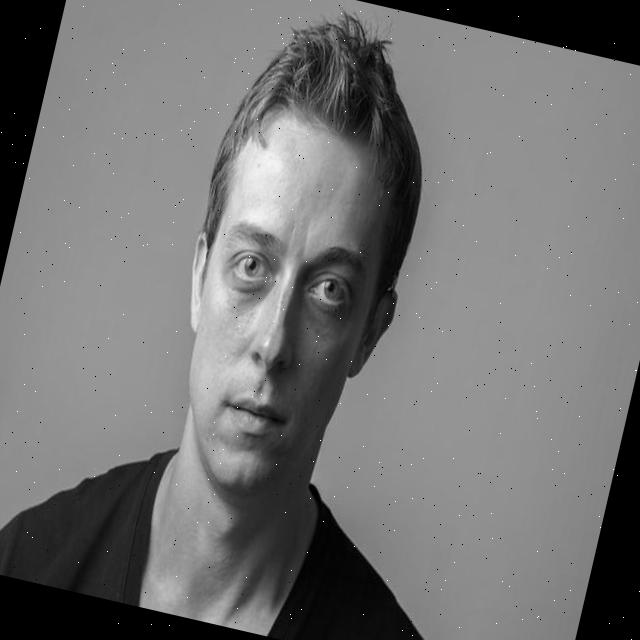Neutral: (160, 115, 406, 512)
